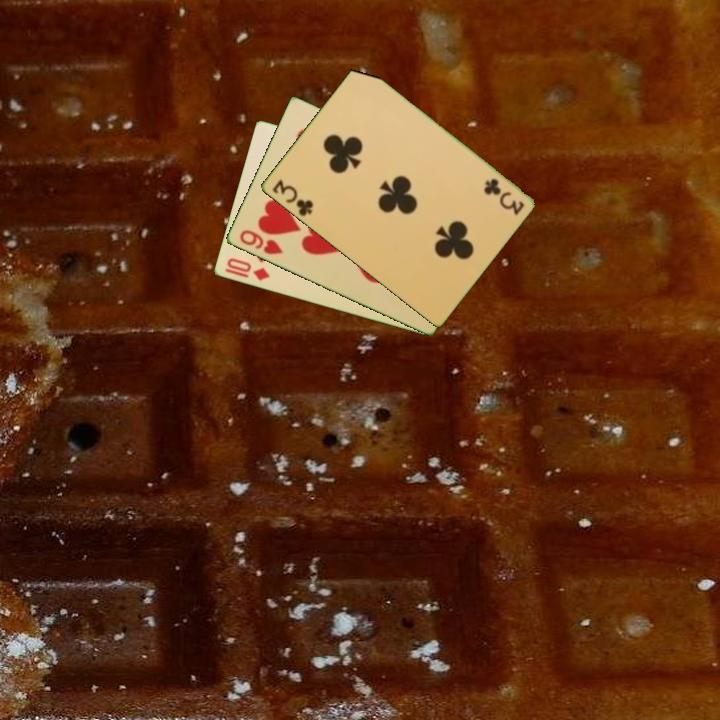10d: (221, 254, 272, 284)
3c: (268, 176, 316, 219), (480, 175, 527, 218)
9h: (236, 226, 285, 258)
